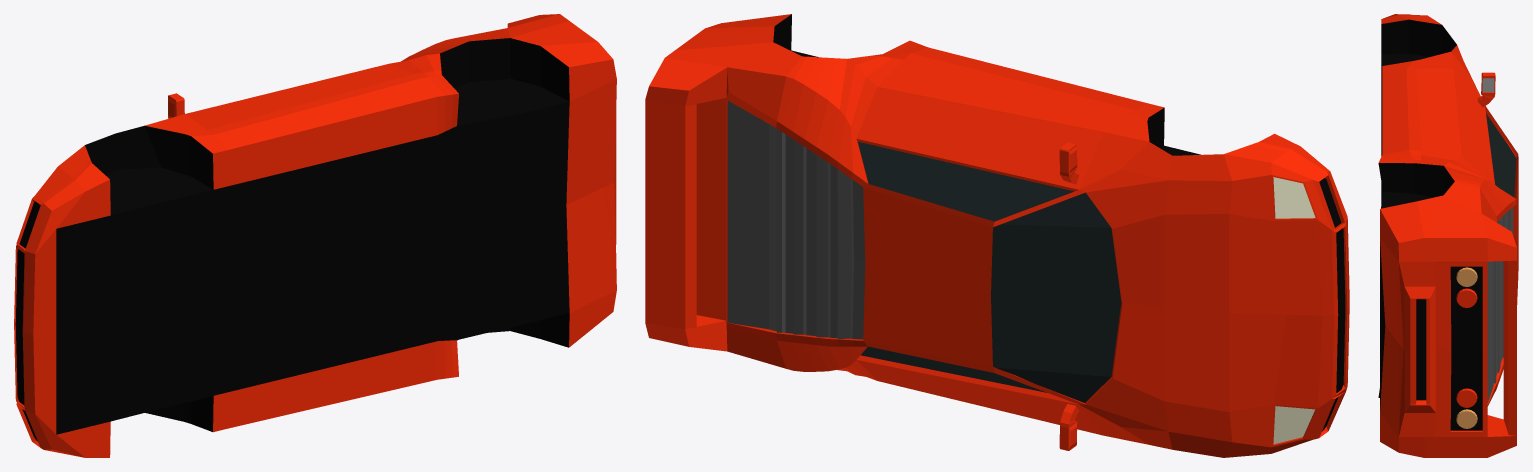
The model's file is Ferrarka.fbx.
3 renders of one model, left to right at view 1: azimuth 30°, elevation 25°; view 2: azimuth 150°, elevation 25°; view 3: azimuth 270°, elevation 25°, orthographic. The views are drawn at different scales.
Parts seen in each view (by area): view 1: Cube; view 2: Cube; view 3: Cube.
Part boxes in pixels (<box>): Cube: <box>14,14,616,457</box>; Cube: <box>645,14,1349,457</box>; Cube: <box>1378,14,1518,457</box>.
Size of the model in its own units: 2.98 by 1.4 by 0.7239.
